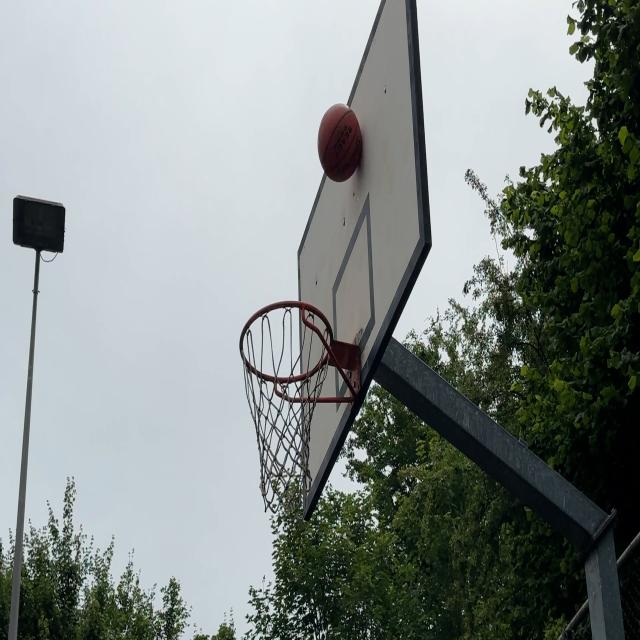rebound_hit: (317, 102, 364, 183)
